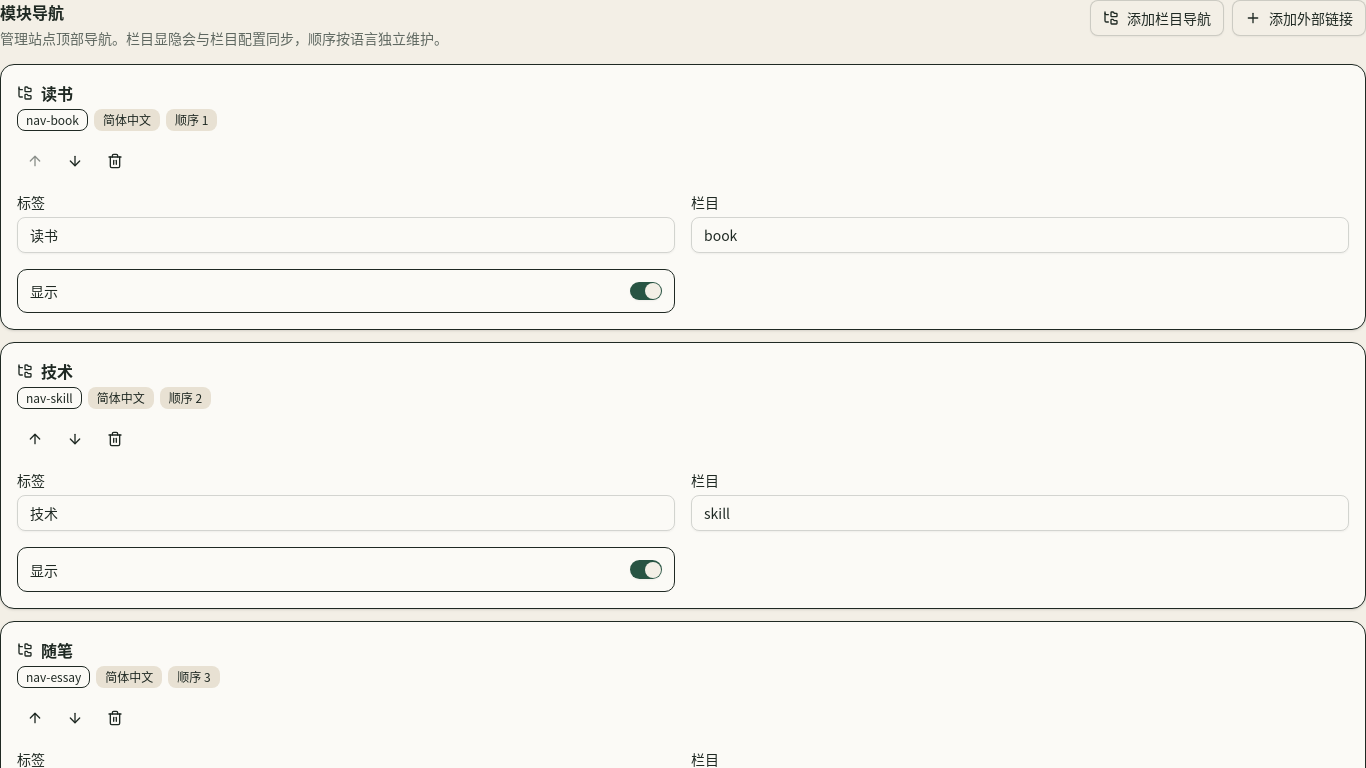
Test: NavigationManager › opens on another enabled language when only that language has an available section
The width and height of the screenshot is (1366, 768).
Click the button "添加栏目导航" at (1157, 18), box [1090, 0, 1224, 36]
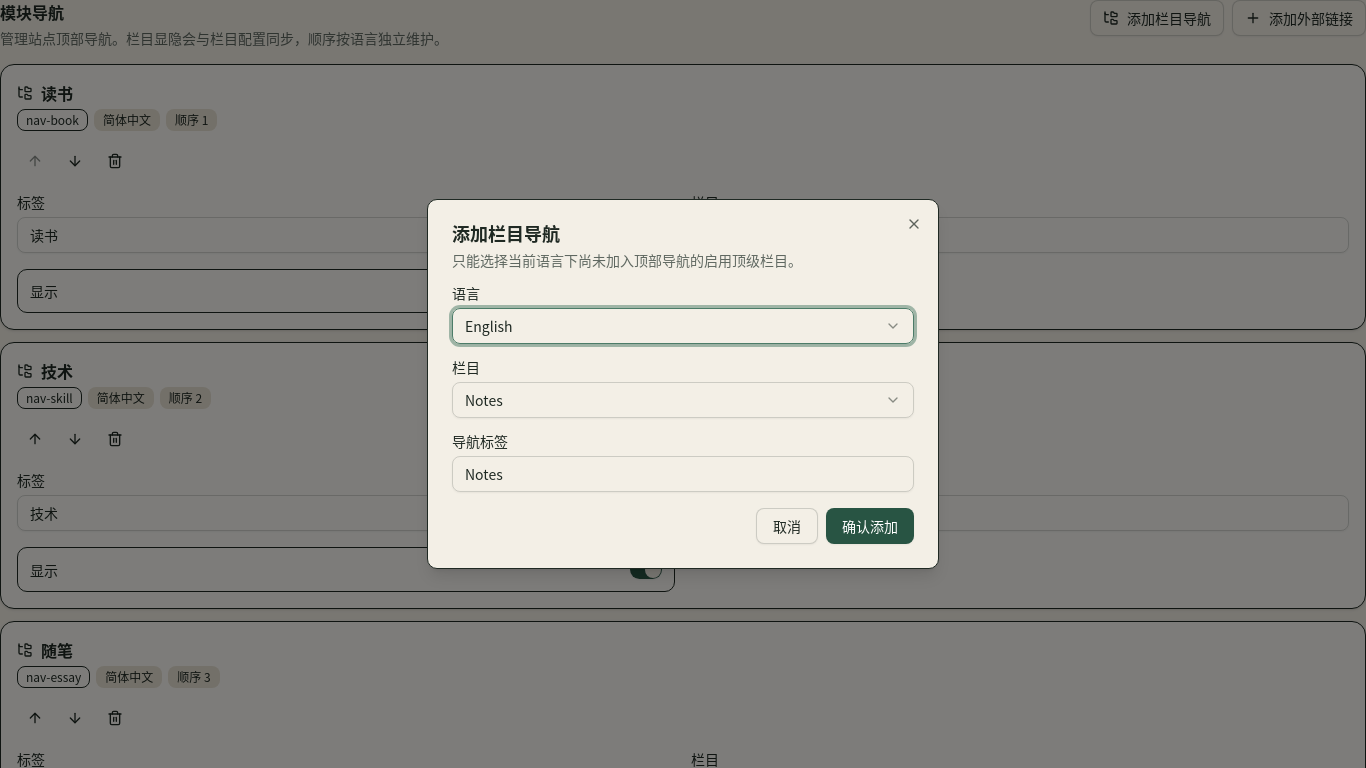
Now the dropdown named "栏目导航语言" reads "English", box [452, 308, 914, 344]
Now the dropdown named "选择栏目" reads "Notes", box [452, 382, 914, 418]
